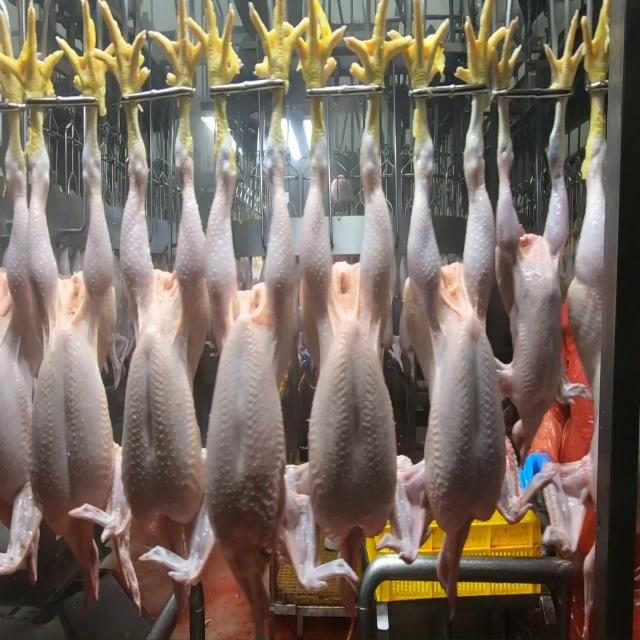chicken: (388, 138, 511, 536), (205, 122, 296, 562), (300, 149, 399, 544), (26, 138, 121, 543), (117, 133, 211, 528), (487, 117, 573, 412), (1, 135, 35, 593)
